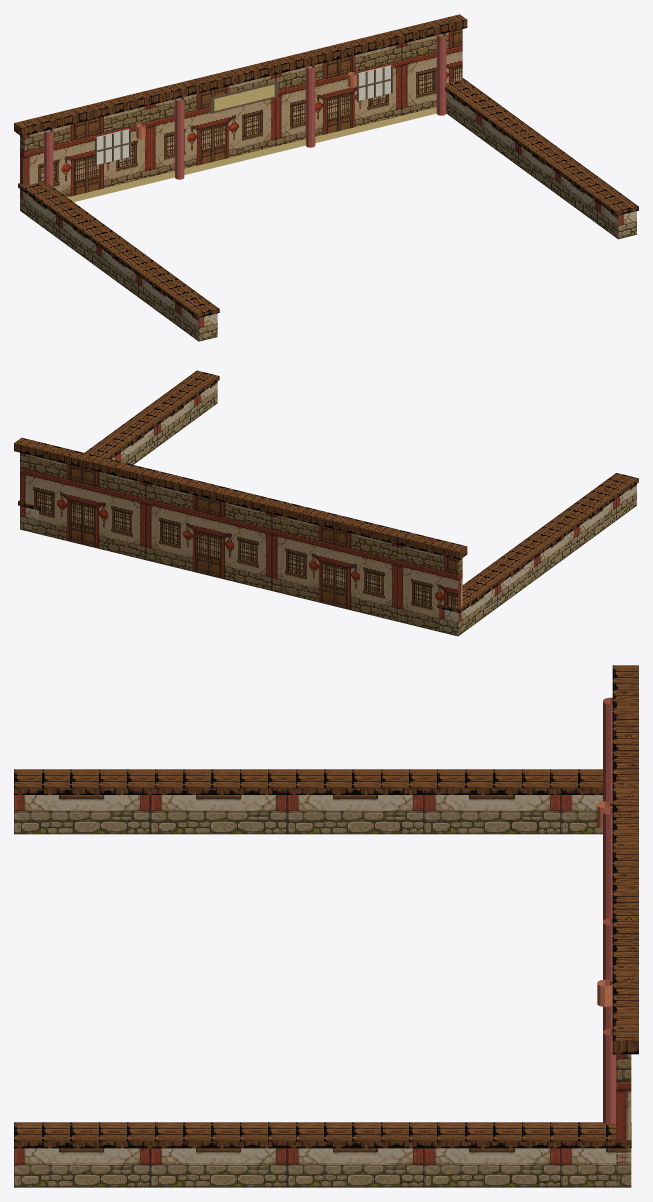
Rendered from rm_hall2.glb.
3 views of the same model, one above another, from view 1: azimuth 30°, elevation 25°; view 2: azimuth 150°, elevation 25°; view 3: azimuth 270°, elevation 25° (orthographic). The views are drawn at different scales.
Visible parts, largest first — view 1: wall, beam, side, trim, post, paper, lat; view 2: wall, beam, side; view 3: side, beam, post, wall.
Part boxes in pixels (x1,y1,x2,y2): wall: (20, 29, 462, 213); beam: (14, 14, 638, 318); side: (20, 92, 636, 341); trim: (24, 84, 436, 213); post: (44, 33, 446, 186); paper: (95, 65, 391, 164); lat: (95, 65, 392, 165); wall: (20, 452, 462, 634); beam: (14, 370, 638, 612); side: (20, 381, 636, 636); side: (14, 795, 631, 1187); beam: (14, 665, 638, 1148); post: (603, 697, 616, 1124); wall: (616, 1054, 631, 1186).
Size of the model in its own units: 236 by 44.01 by 166.
Materials: 8 (3 with a texture image).
